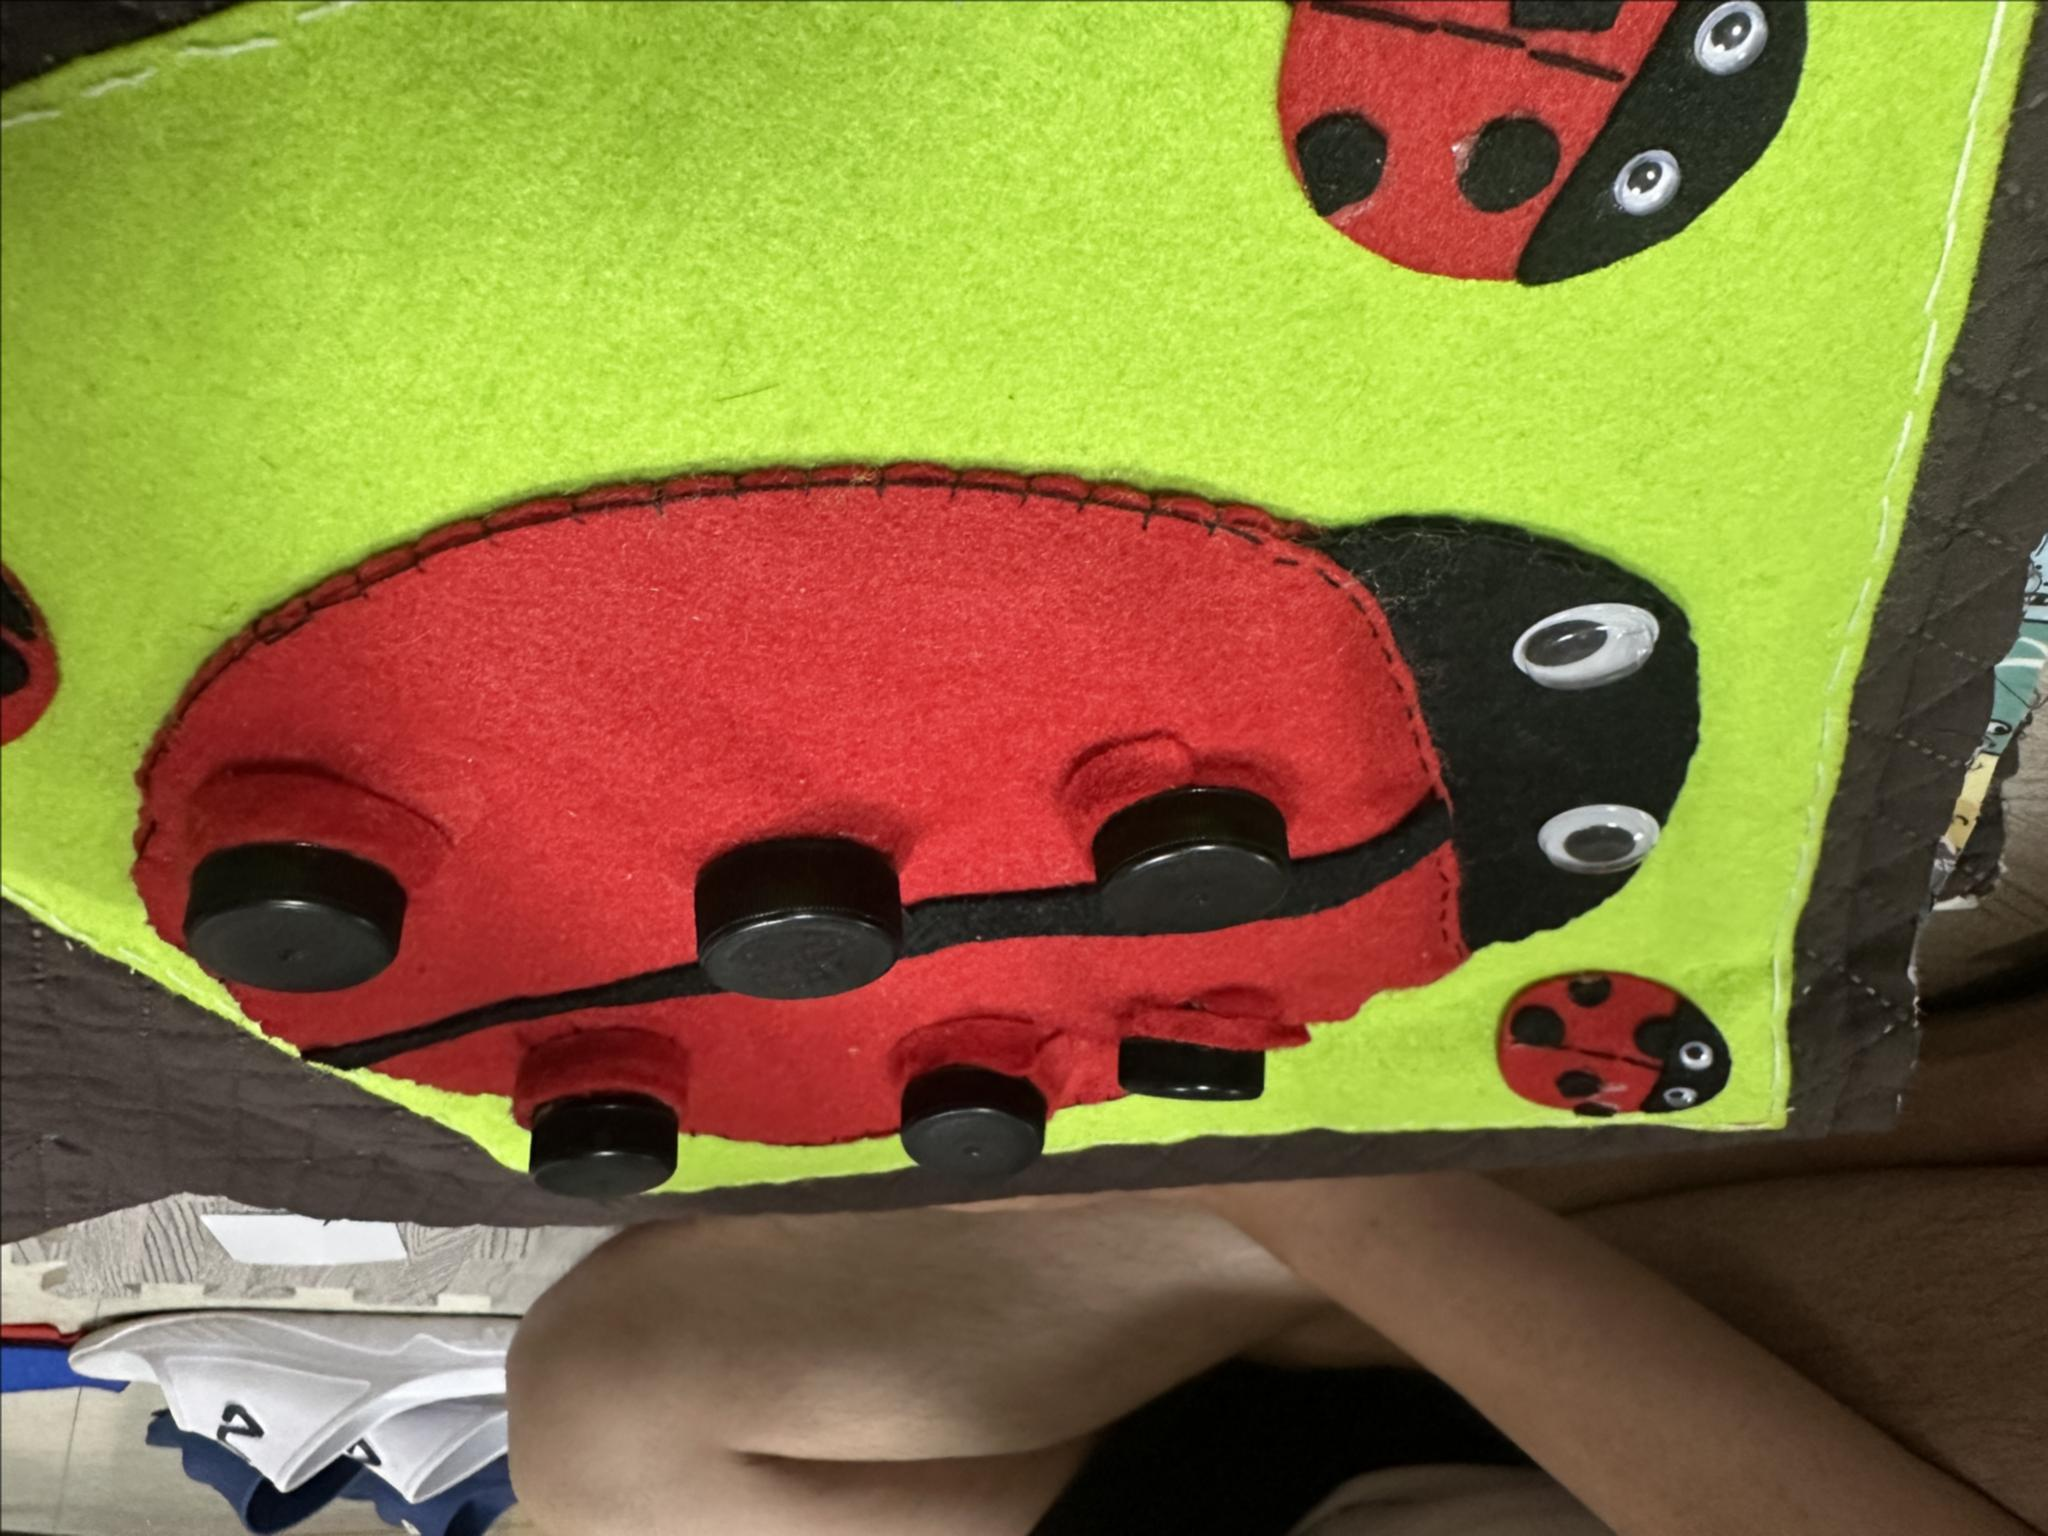cap_ok: (160, 750, 469, 986), (658, 795, 930, 1021), (1085, 720, 1319, 947), (884, 994, 1084, 1191), (1092, 966, 1324, 1123), (502, 1039, 703, 1215)
